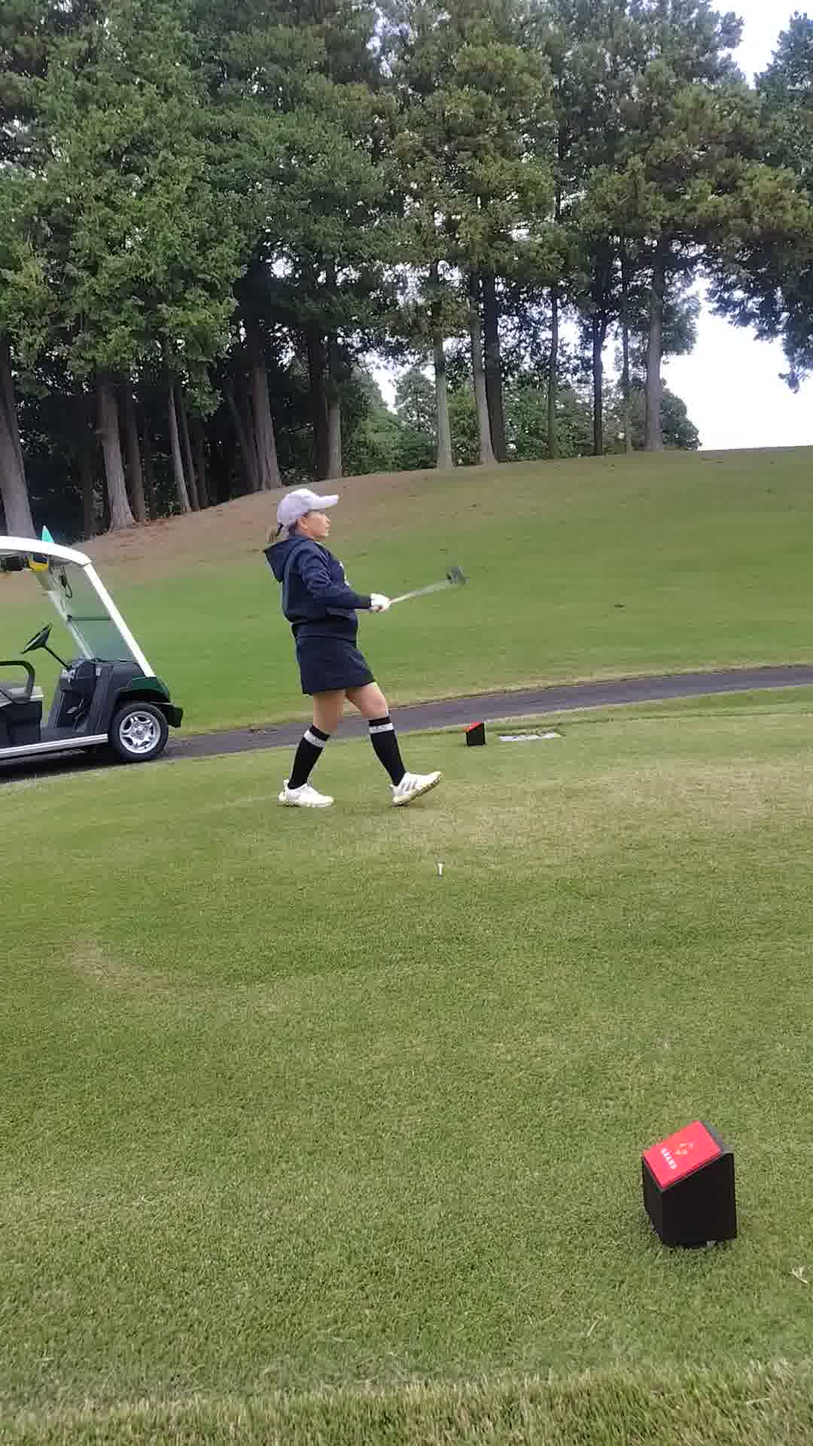clubhead: (374, 515, 505, 646)
